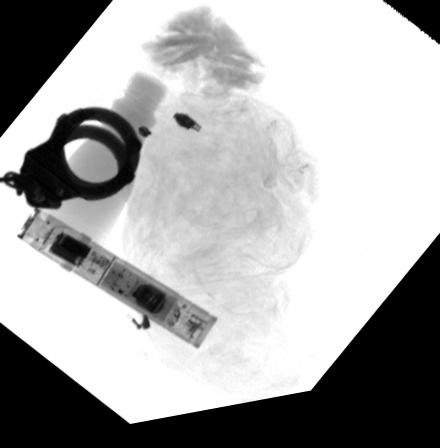Baton: (13, 204, 219, 358)
HandCuffs: (0, 106, 145, 213)
